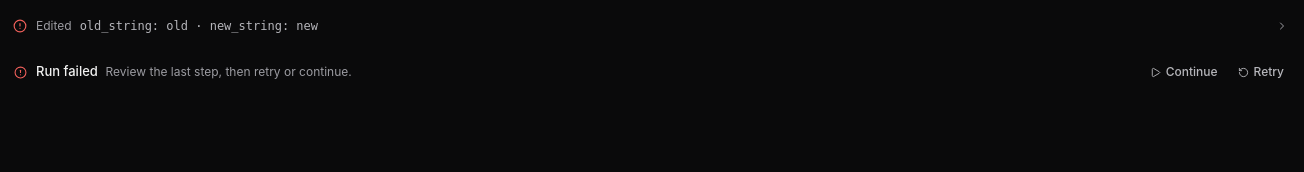
timeline edit and thought previews › keeps failed edits as errors without claiming an applied change
Expected: the text "Not found" is not shown
Click the button "Edited old_string: old · new_string: new" at (54, 26), box [36,12,1292,40]
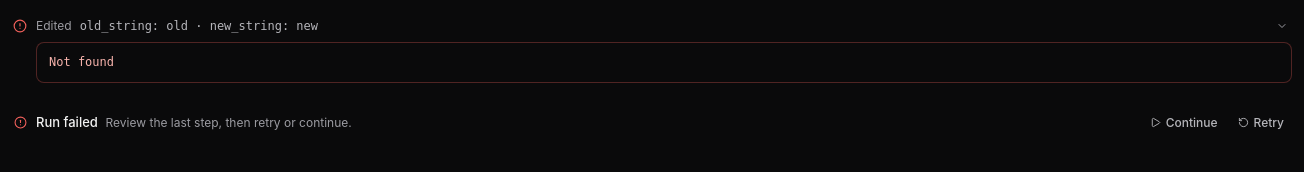
Result: the text "Not found" is shown at [36,42,1292,83]
